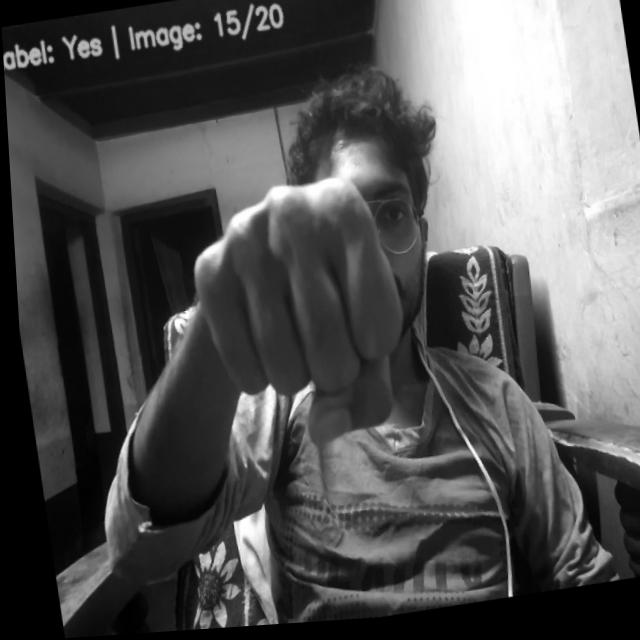Yes: (182, 170, 410, 465)
